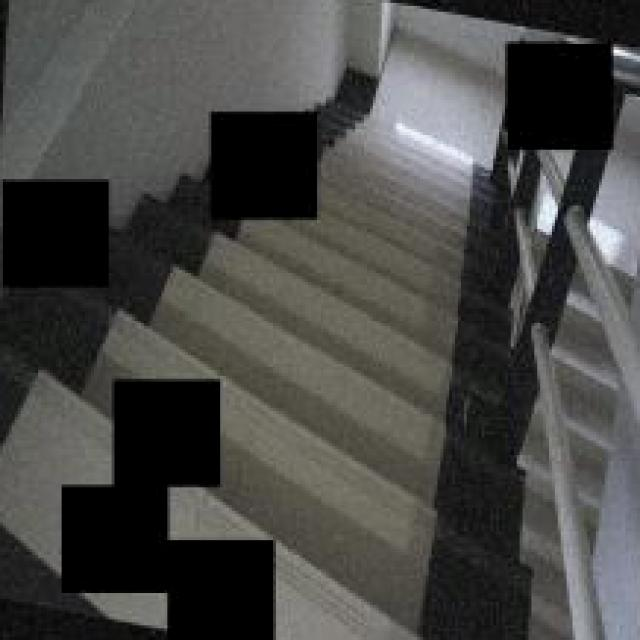downstair: (245, 221, 512, 541)
